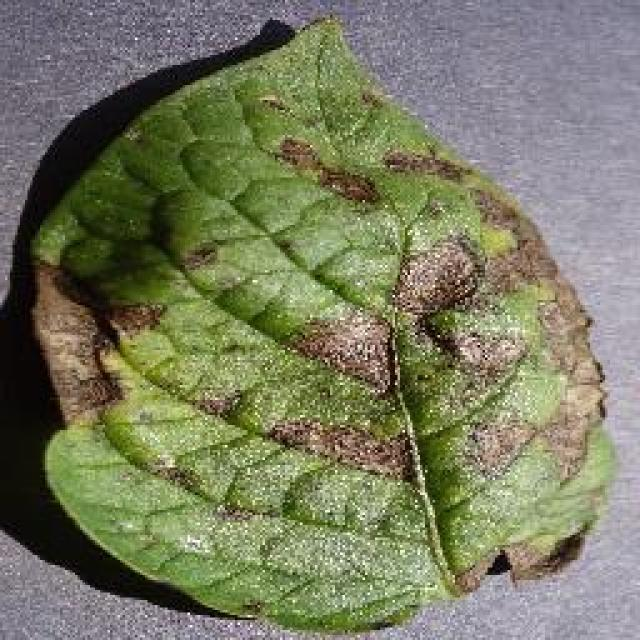Potato: (25, 12, 615, 632)
